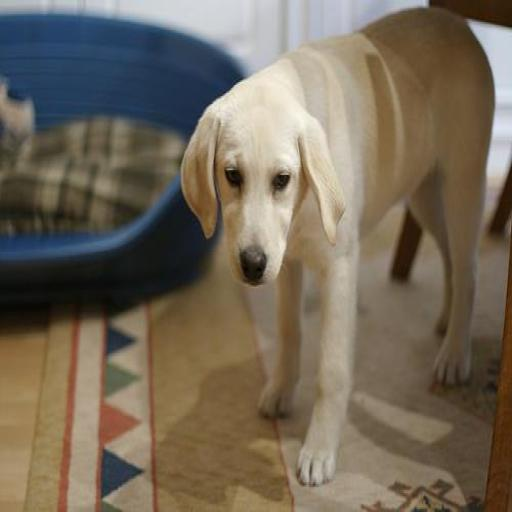dog_face: (186, 94, 356, 289)
